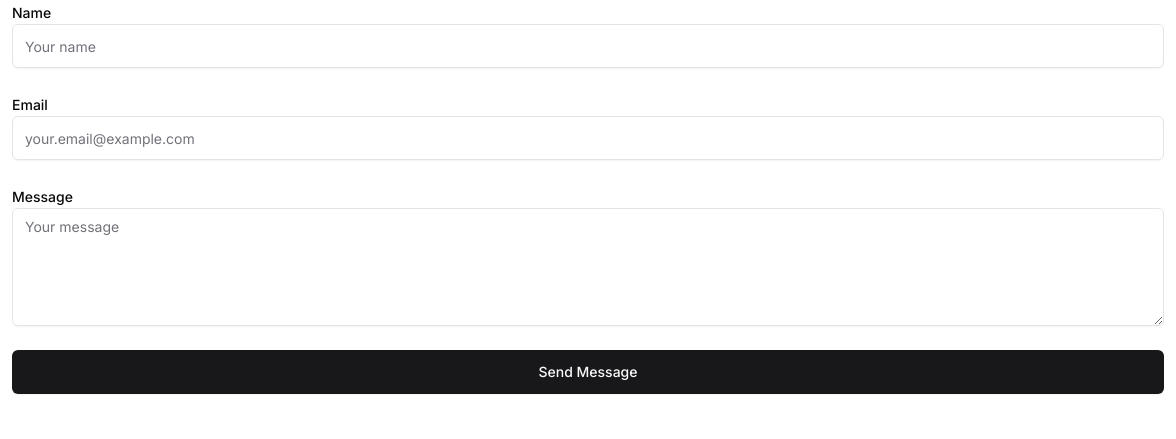
Scenario: ContactForm › shows validation errors on blur for invalid email
Step 1. Type "not-an-email" into the field labelled "Email" → (588, 138), box [12,116,1164,160]
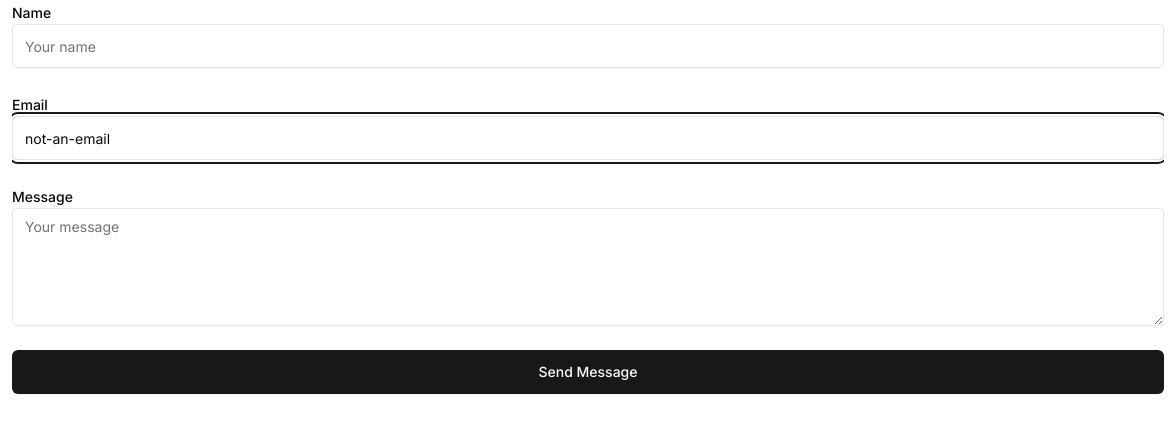
Step 2. Press Tab
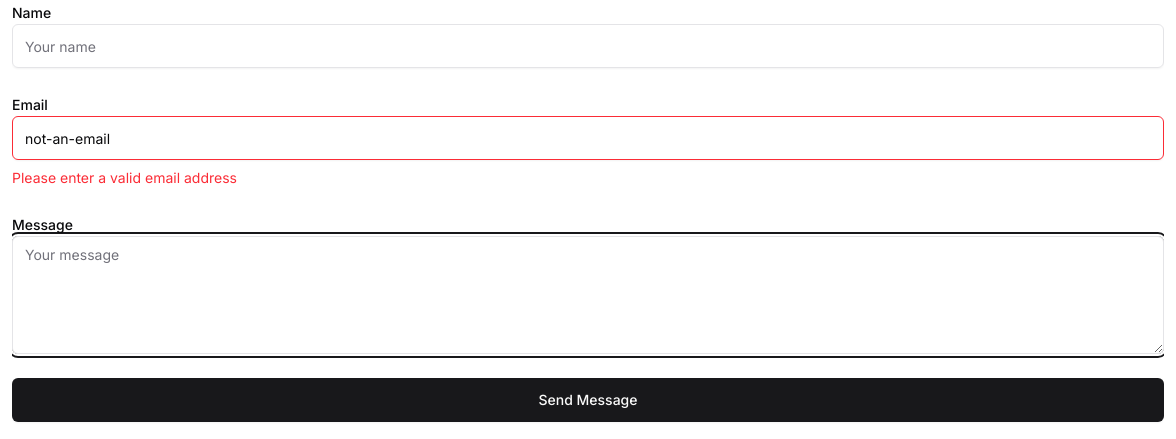
Result: the text "Please enter a valid email address" is shown at [12,169,237,186]
